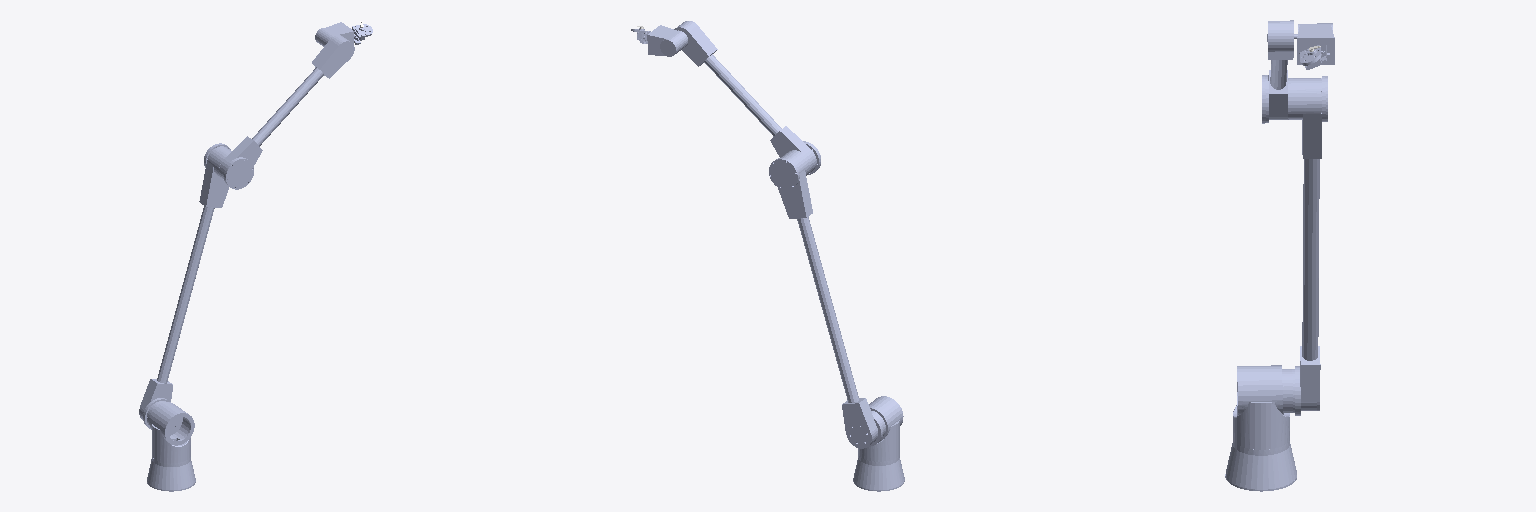
URDF robot description (proxima_manipulator):
<?xml version="1.0" encoding="utf-8"?>
<!-- This URDF was automatically created by SolidWorks to URDF Exporter! Originally created by [author] ([email redacted]) 
     Commit Version: 1.6.0-4-g7f85cfe  Build Version: 1.6.7995.38578
     For more information, please see http://wiki.ros.org/sw_urdf_exporter -->
<robot
  name="proxima_manipulator">
  <link
    name="link_1">
    <inertial>
      <origin
        xyz="2.67147415300428E-16 -5.48172618408671E-16 0.0278836801469794"
        rpy="0 0 0" />
      <mass
        value="0.247721059115889" />
      <inertia
        ixx="0.0003011867427044"
        ixy="2.38059441973575E-20"
        ixz="3.56187820388695E-20"
        iyy="0.0003011867427044"
        iyz="-2.04797568301113E-19"
        izz="0.000467545439957378" />
    </inertial>
    <visual>
      <origin
        xyz="0 0 0"
        rpy="0 0 0" />
      <geometry>
        <mesh
          filename="package://proxima_manipulator/meshes/link_1.STL" />
      </geometry>
      <material
        name="">
        <color
          rgba="0.792156862745098 0.819607843137255 0.933333333333333 1" />
      </material>
    </visual>
    <collision>
      <origin
        xyz="0 0 0"
        rpy="0 0 0" />
      <geometry>
        <mesh
          filename="package://proxima_manipulator/meshes/link_1.STL" />
      </geometry>
    </collision>
  </link>
  <link
    name="link_2">
    <inertial>
      <origin
        xyz="1.26016822536365E-05 -0.00067913549103308 0.0548525819368087"
        rpy="0 0 0" />
      <mass
        value="0.299441756132738" />
      <inertia
        ixx="0.000424744928526324"
        ixy="-1.11192496861313E-06"
        ixz="-1.27943860369015E-07"
        iyy="0.000485678490070992"
        iyz="7.0098607134611E-06"
        izz="0.000369014762438299" />
    </inertial>
    <visual>
      <origin
        xyz="0 0 0"
        rpy="0 0 0" />
      <geometry>
        <mesh
          filename="package://proxima_manipulator/meshes/link_2.STL" />
      </geometry>
      <material
        name="">
        <color
          rgba="0.792156862745098 0.819607843137255 0.933333333333333 1" />
      </material>
    </visual>
    <collision>
      <origin
        xyz="0 0 0"
        rpy="0 0 0" />
      <geometry>
        <mesh
          filename="package://proxima_manipulator/meshes/link_2.STL" />
      </geometry>
    </collision>
  </link>
  <joint
    name="link_ jt1 "
    type="continuous">
    <limit effort="100" lower="-3.14" upper="3.14" velocity="1.0"/>
    <origin
      xyz="0 0 0.05"
      rpy="0 0 0" />
    <parent
      link="link_1" />
    <child
      link="link_2" />
    <axis
      xyz="0 0 1" />
  </joint>
  <link
    name="link_3">
    <inertial>
      <origin
        xyz="0.0927774515413347 0.0714111850999219 0.303440607317138"
        rpy="0 0 0" />
      <mass
        value="0.431675804968219" />
      <inertia
        ixx="0.00187530189920104"
        ixy="-3.15309080841052E-06"
        ixz="-0.000522393947089355"
        iyy="0.00212512273898093"
        iyz="-4.72040942247626E-06"
        izz="0.000339309367555789" />
    </inertial>
    <visual>
      <origin
        xyz="0 0 0"
        rpy="0 0 0" />
      <geometry>
        <mesh
          filename="package://proxima_manipulator/meshes/link_3.STL" />
      </geometry>
      <material
        name="">
        <color
          rgba="0.792156862745098 0.819607843137255 0.933333333333333 1" />
      </material>
    </visual>
    <collision>
      <origin
        xyz="0 0 0"
        rpy="0 0 0" />
      <geometry>
        <mesh
          filename="package://proxima_manipulator/meshes/link_3.STL" />
      </geometry>
    </collision>
  </link>
  <joint
    name="link_jt2"
    type="continuous">
    <limit effort="100" lower="-1.57" upper="1.57" velocity="1.0"/>
    <origin
      xyz="0 0 0.095"
      rpy="0 0 0" />
    <parent
      link="link_2" />
    <child
      link="link_3" />
    <axis
      xyz="-0.58275 0.81265 0" />
  </joint>
  <link
    name="link_4">
    <inertial>
      <origin
        xyz="0.439880024349184 0.114137252620308 0.107894384276403"
        rpy="0 0 0" />
      <mass
        value="0.280632653657222" />
      <inertia
        ixx="0.000227451246830242"
        ixy="-1.39148558684808E-06"
        ixz="-0.000154309607138457"
        iyy="0.000445652071983742"
        iyz="-6.43948002898041E-07"
        izz="0.00028018235697428" />
    </inertial>
    <visual>
      <origin
        xyz="0 0 0"
        rpy="0 0 0" />
      <geometry>
        <mesh
          filename="package://proxima_manipulator/meshes/link_4.STL" />
      </geometry>
      <material
        name="">
        <color
          rgba="0.792156862745098 0.819607843137255 0.933333333333333 1" />
      </material>
    </visual>
    <collision>
      <origin
        xyz="0 0 0"
        rpy="0 0 0" />
      <geometry>
        <mesh
          filename="package://proxima_manipulator/meshes/link_4.STL" />
      </geometry>
    </collision>
  </link>
  <joint
    name="link_jt3"
    type="continuous">
    <limit effort="10" lower="-1.57" upper="1.57" velocity="1.0"/>
    <origin
      xyz="-0.12238 -0.087757 0.59565"
      rpy="0 0 0" />
    <parent
      link="link_3" />
    <child
      link="link_4" />
    <axis
      xyz="-0.58275 0.81265 0" />
  </joint>
  <link
    name="link_5">
    <inertial>
      <origin
        xyz="0.31305576498068 -0.042835829112622 0.291112292331689"
        rpy="0 0 0" />
      <mass
        value="0.101723003375221" />
      <inertia
        ixx="5.05288197170505E-05"
        ixy="1.7230477580174E-07"
        ixz="8.33758443432768E-07"
        iyy="5.32093589759462E-05"
        iyz="2.14427349204548E-08"
        izz="6.39523336665948E-05" />
    </inertial>
    <visual>
      <origin
        xyz="0 0 0"
        rpy="0 0 0" />
      <geometry>
        <mesh
          filename="package://proxima_manipulator/meshes/link_5.STL" />
      </geometry>
      <material
        name="">
        <color
          rgba="0.792156862745098 0.819607843137255 0.933333333333333 1" />
      </material>
    </visual>
    <collision>
      <origin
        xyz="0 0 0"
        rpy="0 0 0" />
      <geometry>
        <mesh
          filename="package://proxima_manipulator/meshes/link_5.STL" />
      </geometry>
    </collision>
  </link>
  <joint
    name="link_jt4"
    type="continuous">
    <limit effort="50" lower="-1.57" upper="1.57" velocity="1.0"/>
    <origin
      xyz="0.296903285779486 0.215102977796523 -0.0615465136497864"
      rpy="0 0 0" />
    <parent
      link="link_4" />
    <child
      link="link_5" />
    <axis
      xyz="-0.583107713219487 0.812391589092072 -0.00230233715980965" />
  </joint>
  <link
    name="link_6">
    <inertial>
      <origin
        xyz="0.355110082221449 -0.14521877869131 0.32556616338284"
        rpy="0 0 0" />
      <mass
        value="0.0113820917596356" />
      <inertia
        ixx="1.08134791014413E-06"
        ixy="-1.97947224579249E-08"
        ixz="4.80302422869398E-08"
        iyy="1.23014925249638E-06"
        iyz="-3.57031245382337E-07"
        izz="1.87342754174238E-06" />
    </inertial>
    <visual>
      <origin
        xyz="0 0 0"
        rpy="0 0 0" />
      <geometry>
        <mesh
          filename="package://proxima_manipulator/meshes/link_6.STL" />
      </geometry>
      <material
        name="">
        <color
          rgba="0.792156862745098 0.819607843137255 0.933333333333333 1" />
      </material>
    </visual>
    <collision>
      <origin
        xyz="0 0 0"
        rpy="0 0 0" />
      <geometry>
        <mesh
          filename="package://proxima_manipulator/meshes/link_6.STL" />
      </geometry>
    </collision>
  </link>
  <joint
    name="link_jt5"
    type="continuous">
    <limit effort="50" lower="-1.57" upper="1.57" velocity="1.0"/>
    <origin
      xyz="0.0159247963270868 0.0971478489940458 -0.0327463091047406"
      rpy="0 0 0" />
    <parent
      link="link_5" />
    <child
      link="link_6" />
    <axis
      xyz="-0.7345362270283 -0.526010820973493 0.428683038388298" />
  </joint>
  <link
    name="gripper">
    <inertial>
      <origin
        xyz="0.351511028143606 -0.149212672082347 0.337891577266145"
        rpy="0 0 0" />
      <mass
        value="0.000240771357022716" />
      <inertia
        ixx="6.17674068126977E-09"
        ixy="-1.39190737054382E-09"
        ixz="-8.1909708213908E-10"
        iyy="3.25954858389964E-09"
        iyz="-2.39097692004316E-09"
        izz="5.85315549906598E-09" />
    </inertial>
    <visual>
      <origin
        xyz="0 0 0"
        rpy="0 0 0" />
      <geometry>
        <mesh
          filename="package://proxima_manipulator/meshes/gripper.STL" />
      </geometry>
      <material
        name="">
        <color
          rgba="1 1 1 1" />
      </material>
    </visual>
    <collision>
      <origin
        xyz="0 0 0"
        rpy="0 0 0" />
      <geometry>
        <mesh
          filename="package://proxima_manipulator/meshes/gripper.STL" />
      </geometry>
    </collision>
  </link>
  <joint
    name="link_jt6"
    type="continuous">
    <limit effort="50" lower="-3.14" upper="3.14" velocity="1.0"/>
    <origin
      xyz="0.00806188691852791 0.00482819873140239 0.00535915693213174"
      rpy="0 0 0" />
    <parent
      link="link_6" />
    <child
      link="gripper" />
    <axis
      xyz="-0.644290827582677 0.342379827086424 -0.68386064625558" />
  </joint>

  <gazebo>
  <plugin name="gazebo_ros_control" filename="libgazebo_ros_control.so">
    <robotNamespace>/proxima_manipulator</robotNamespace>
  </plugin>
</gazebo>


  <transmission name="tran1">
   <type>transmission_interface/SimpleTransmission</type>
    <joint name="link_ jt1">
    <hardwareInterface>PositionJointInterface</hardwareInterface>
    </joint>
    <actuator name="motor1">
    <hardwareInterface>PositionJointInterface</hardwareInterface>
    <mechanicalReduction>1</mechanicalReduction>
    </actuator>
    </transmission>

   <transmission name="tran2">
   <type>transmission_interface/SimpleTransmission</type>
    <joint name="link_ jt2">
    <hardwareInterface>PositionJointInterface</hardwareInterface>
    </joint>
    <actuator name="motor2">
    <hardwareInterface>PositionJointInterface</hardwareInterface>
    <mechanicalReduction>1</mechanicalReduction>
    </actuator>
    </transmission>

   <transmission name="tran3">
   <type>transmission_interface/SimpleTransmission</type>
    <joint name="link_ jt3">
    <hardwareInterface>PositionJointInterface</hardwareInterface>
    </joint>
    <actuator name="motor3">
    <hardwareInterface>PositionJointInterface</hardwareInterface>
    <mechanicalReduction>1</mechanicalReduction>
    </actuator>
    </transmission>

   <transmission name="tran4">
   <type>transmission_interface/SimpleTransmission</type>
    <joint name="link_ jt4">
    <hardwareInterface>PositionJointInterface</hardwareInterface>
    </joint>
    <actuator name="motor4">
    <hardwareInterface>PositionJointInterface</hardwareInterface>
    <mechanicalReduction>1</mechanicalReduction>
    </actuator>
    </transmission>

   <transmission name="tran5">
   <type>transmission_interface/SimpleTransmission</type>
    <joint name="link_ jt5">
    <hardwareInterface>PositionJointInterface</hardwareInterface>
    </joint>
    <actuator name="motor5">
    <hardwareInterface>PositionJointInterface</hardwareInterface>
    <mechanicalReduction>1</mechanicalReduction>
    </actuator>
    </transmission>


   <transmission name="tran6">
   <type>transmission_interface/SimpleTransmission</type>
    <joint name="link_ jt6">
    <hardwareInterface>PositionJointInterface</hardwareInterface>
    </joint>
    <actuator name="motor6">
    <hardwareInterface>PositionJointInterface</hardwareInterface>
    <mechanicalReduction>1</mechanicalReduction>
    </actuator>
    </transmission>
    
    
    <gazebo>
    <plugin name="control" filename="libgazebo_ros_control.so"/>
    </gazebo>

</robot>

--- Facts derived from the render (not from the file) ---
The picture shows the robot from 3 angles, left to right: view 1: azimuth 30°, elevation 25°; view 2: azimuth 150°, elevation 25°; view 3: azimuth 270°, elevation 25°; orthographic projection.
Model proxima_manipulator with 7 links and 6 joints (6 continuous), rooted at link_1, posed every joint at zero.
Links seen in each view (by area): view 1: link_3, link_4, link_2, link_1, link_5; view 2: link_3, link_4, link_2, link_1, link_5; view 3: link_3, link_2, link_1, link_4, link_5.
Boxes of the visible links, x1,y1,x2,y2 form: link_3: [139, 143, 231, 428]; link_4: [219, 35, 354, 189]; link_2: [149, 402, 194, 462]; link_1: [147, 457, 195, 491]; link_5: [315, 22, 354, 46]; link_3: [769, 150, 885, 448]; link_4: [674, 21, 820, 174]; link_2: [858, 396, 903, 461]; link_1: [853, 454, 904, 491]; link_5: [647, 25, 687, 56]; link_3: [1282, 76, 1327, 415]; link_2: [1233, 365, 1289, 449]; link_1: [1225, 441, 1296, 491]; link_4: [1262, 20, 1297, 123]; link_5: [1297, 23, 1334, 64].
Bounding box of the posed robot: 0.6309 × 0.17 × 0.9978 m (x, y, z).
7 mesh visuals loaded from 7 distinct referenced files (7 binary STL).